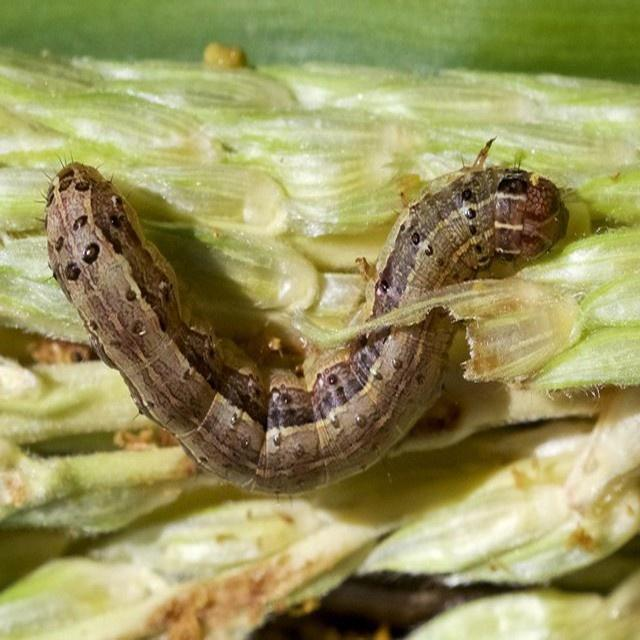gusano_cogollero: (41, 157, 576, 502)
